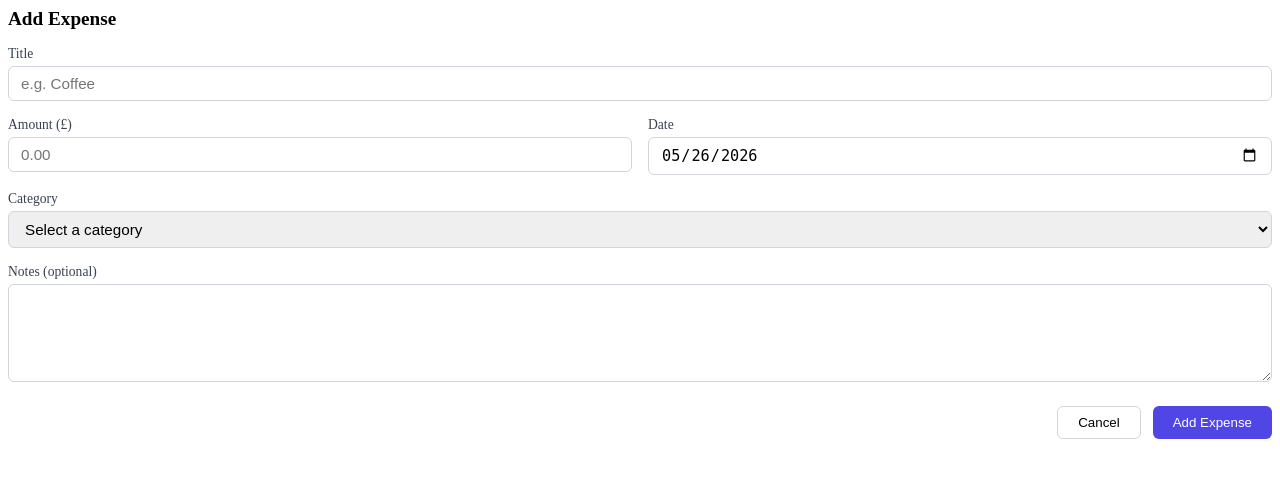
Test case: ExpenseForm › shows validation error when amount is 0
The width and height of the screenshot is (1280, 491).
In the field labelled "Title": (640, 84) [8, 66, 1272, 101], type "Coffee"
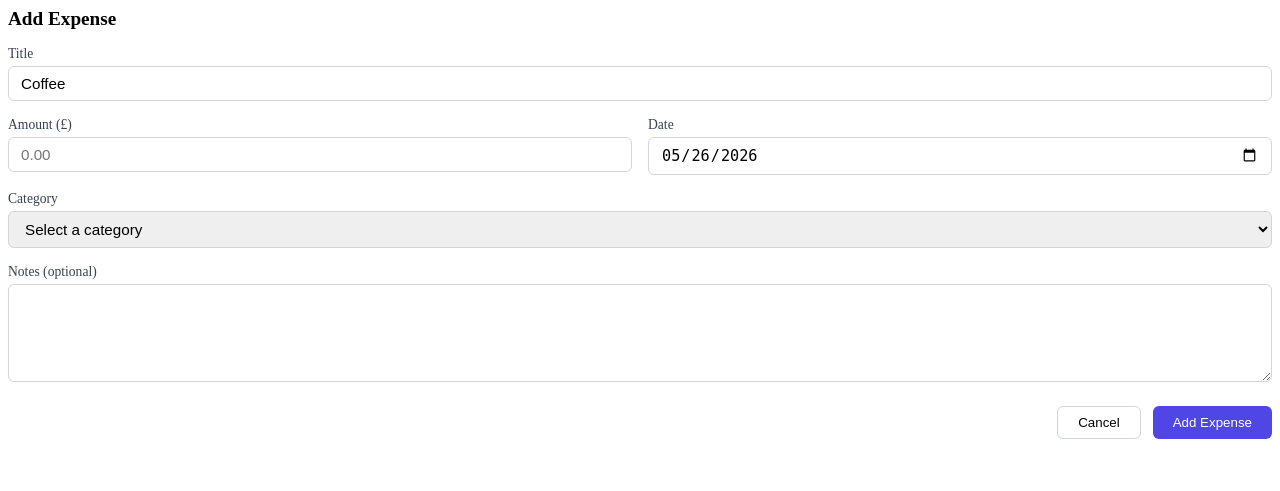
In the number field labelled "Amount (£)": (320, 154) [8, 137, 632, 172], type "0"
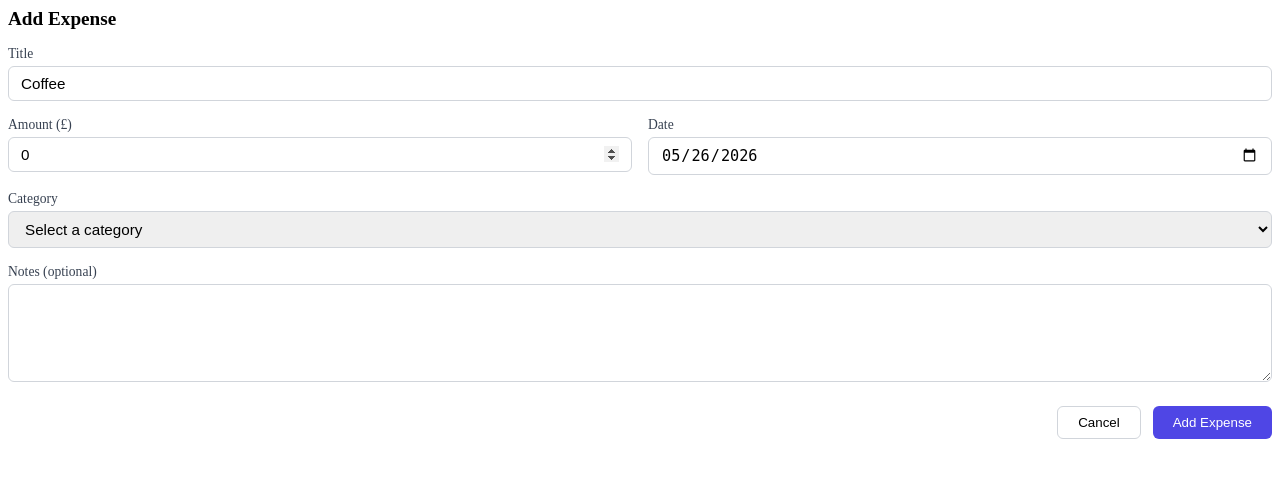
Click the button "Add Expense": (1212, 422) [1153, 406, 1272, 439]
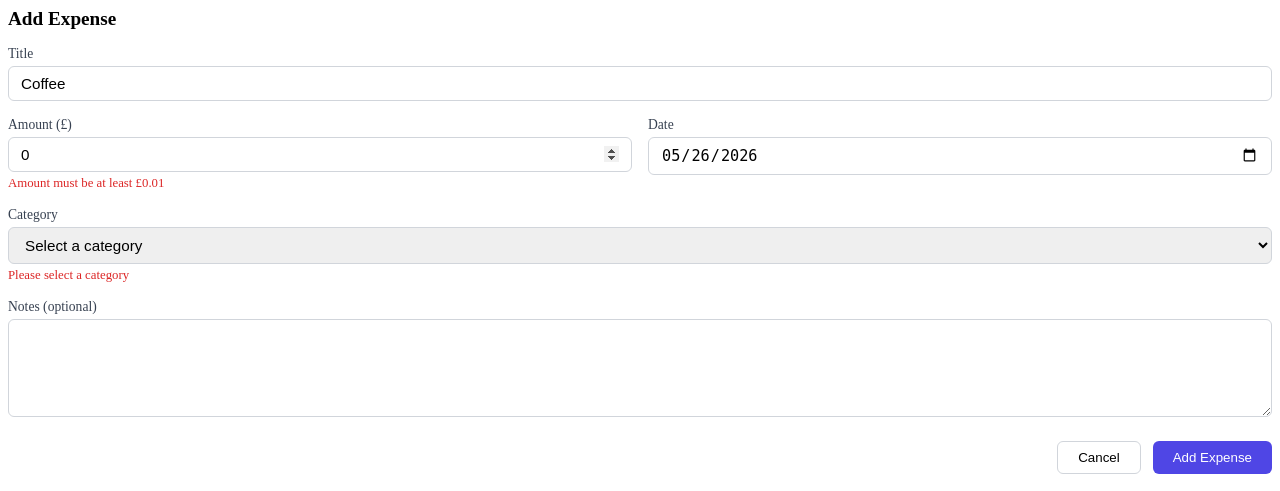
Now the text "Amount must be at least £0.01" is shown, box [8, 176, 164, 190]
